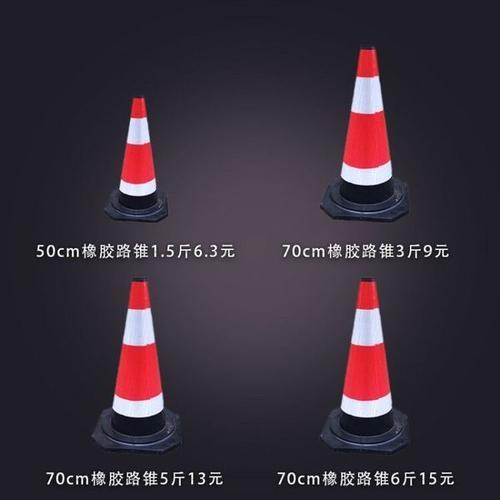cone_barrel: (90, 277, 180, 452), (319, 46, 408, 219), (319, 278, 405, 454), (101, 98, 172, 222)
